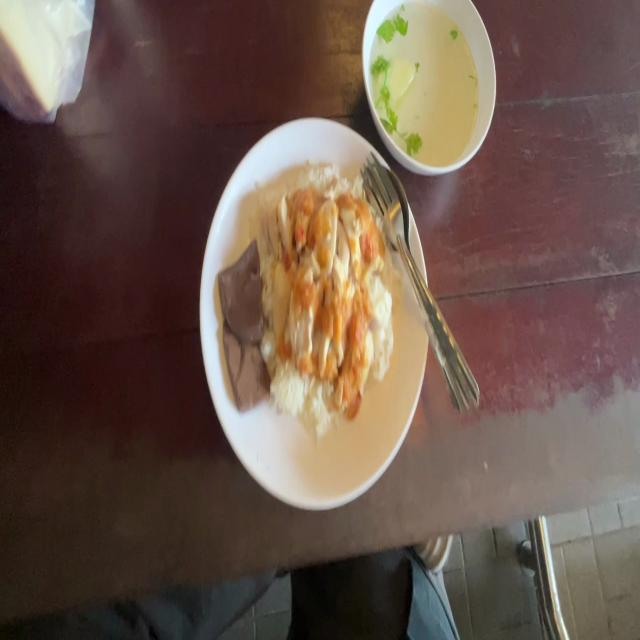boiled_chicken: (272, 185, 376, 385)
boiled_chicken_blood_jelly: (218, 240, 265, 344), (223, 321, 270, 409)
chicken_rice: (215, 157, 394, 429)
